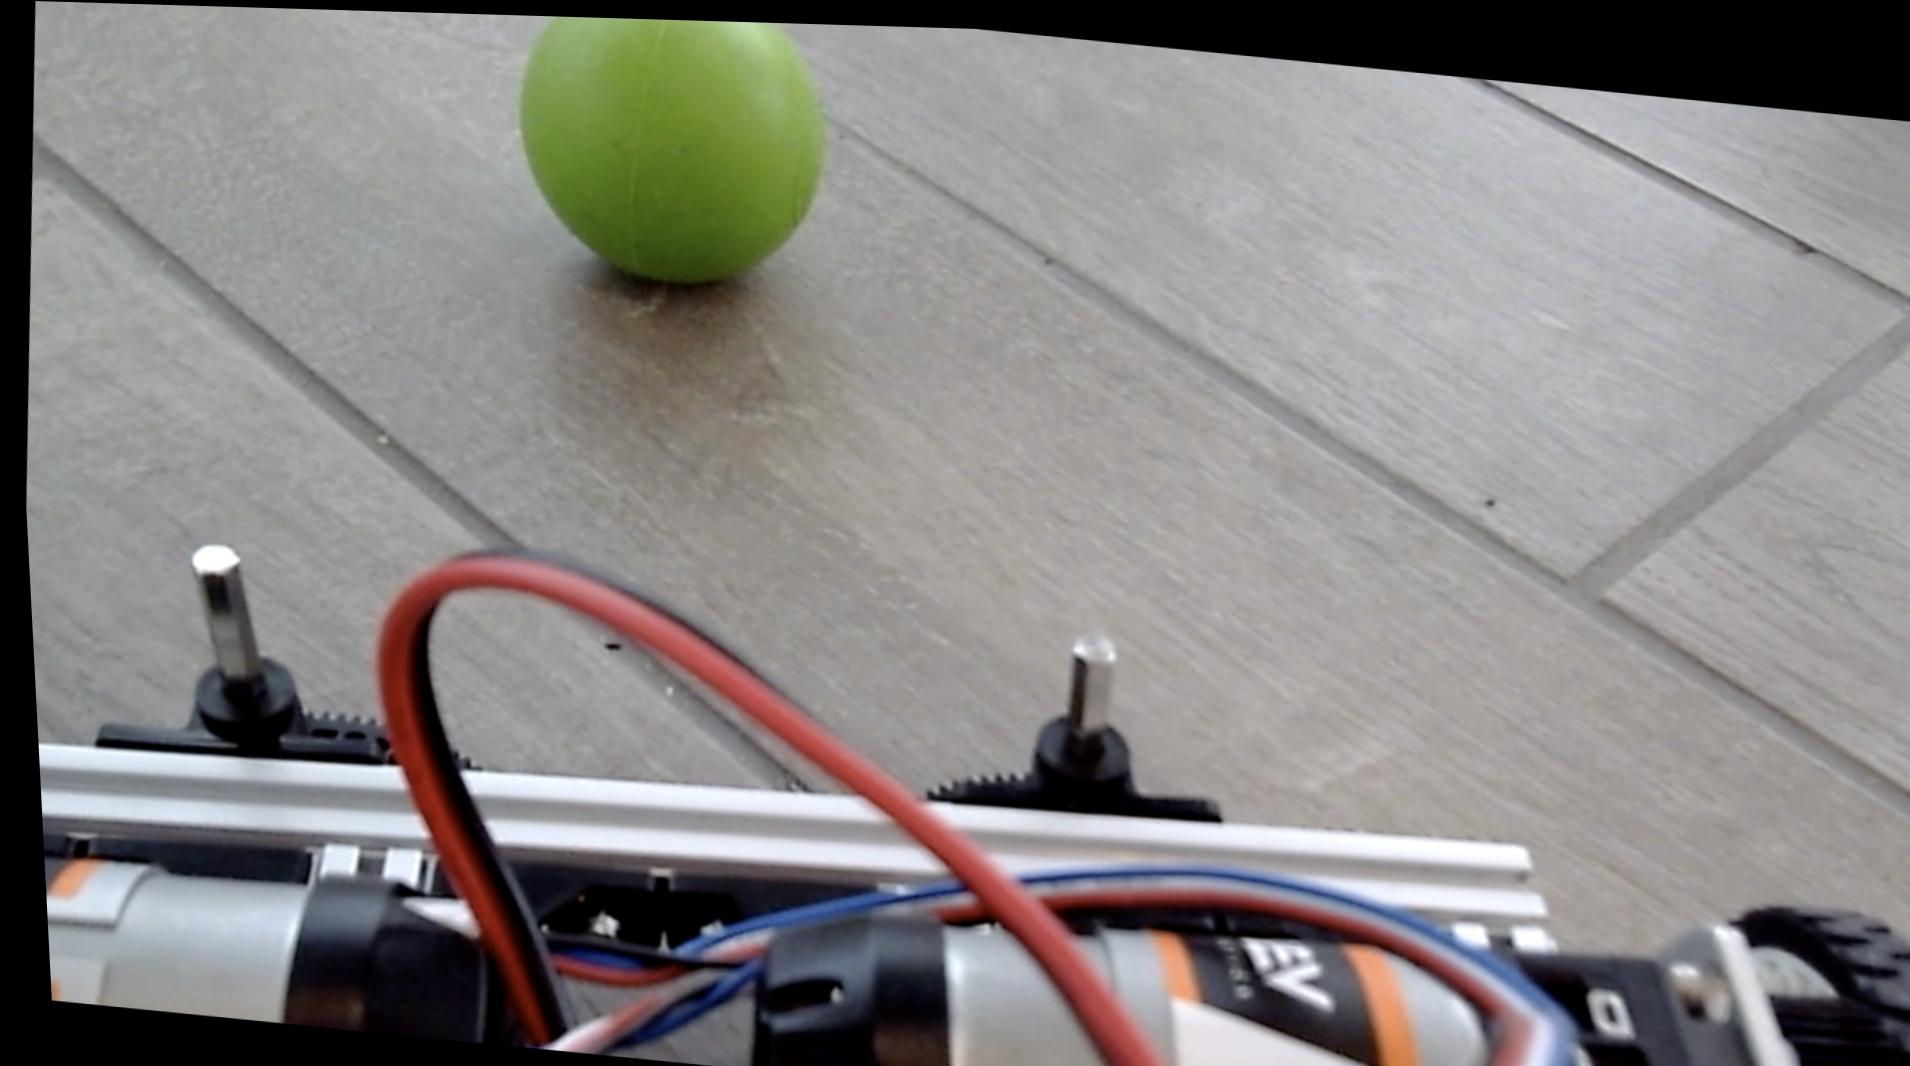greenball: (498, 12, 841, 298)
